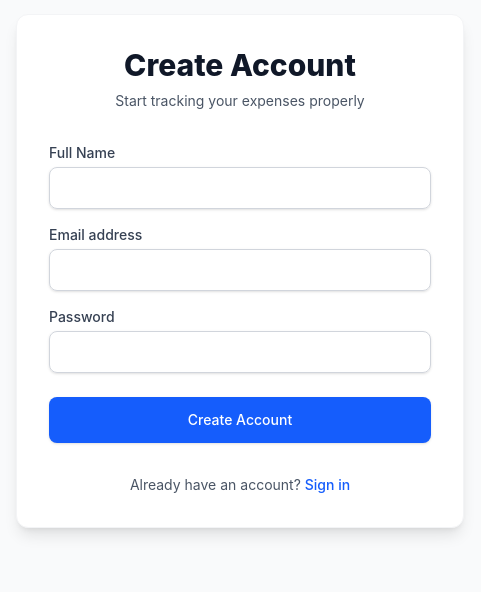
it: Register Component › shows server error message on registration failure
In the field labelled "Full Name": (240, 188) [49, 167, 431, 209], type "Test User"
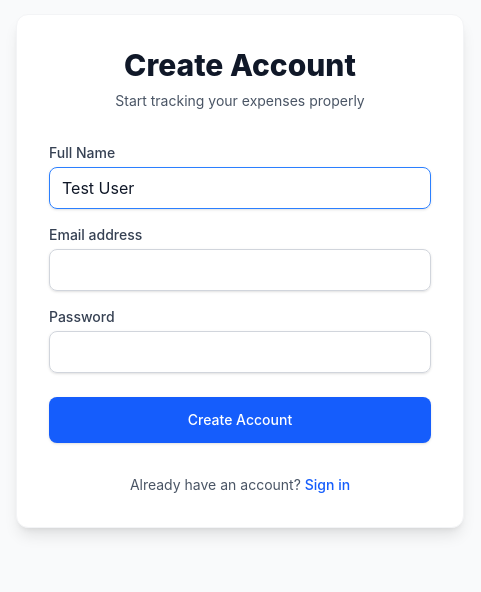
In the field labelled "Email address": (240, 270) [49, 249, 431, 291], type "existing@example.com"
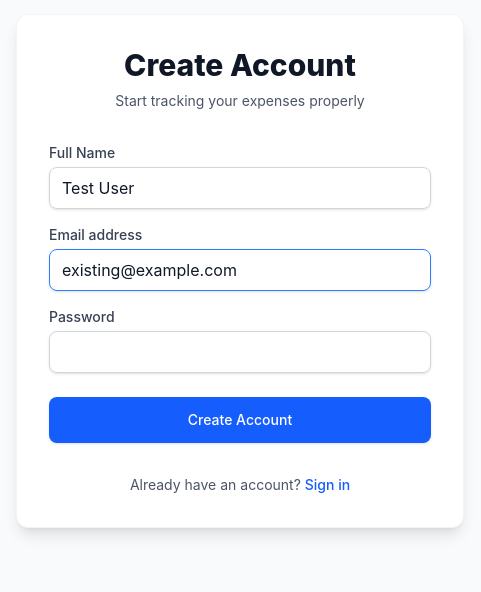
In the password field labelled "Password": (240, 352) [49, 331, 431, 373], type "password123"
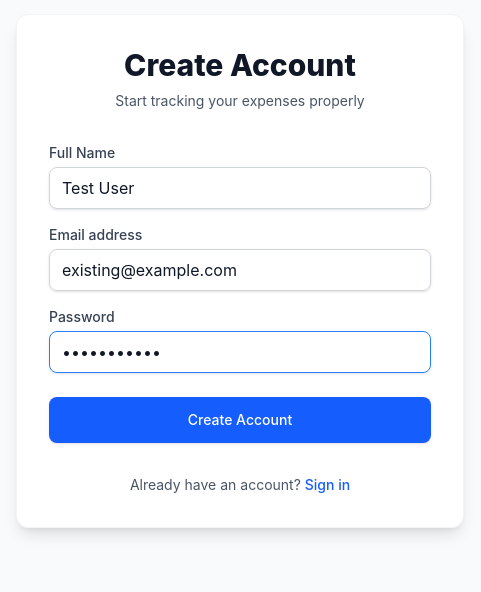
Click the button "Create Account": (240, 420) [49, 397, 431, 443]
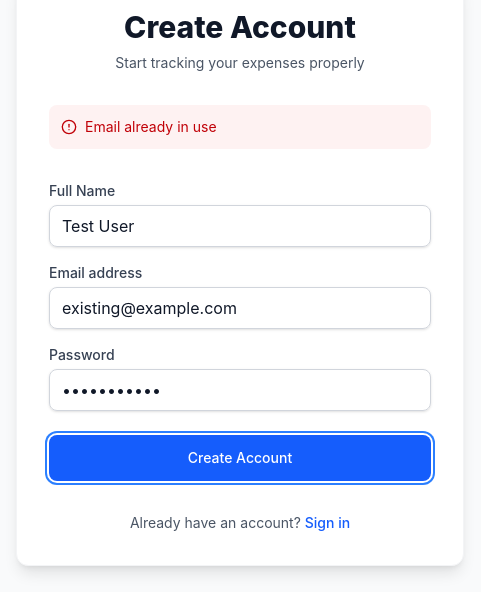
Result: the text "Email already in use" is shown at [49, 105, 431, 149]
